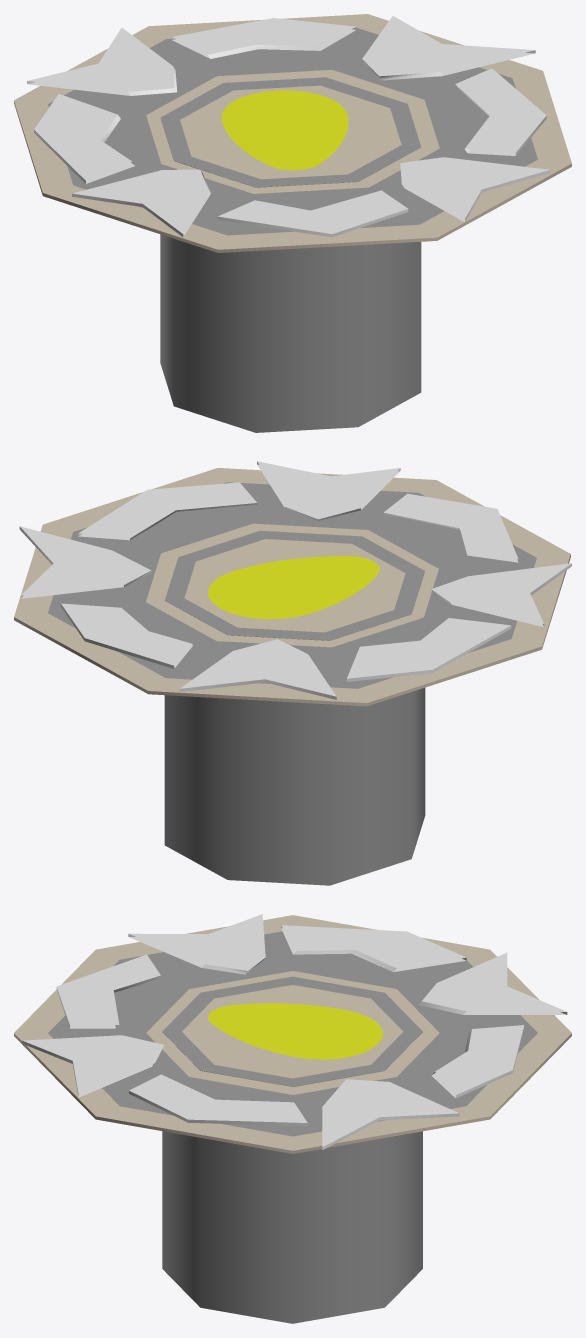
Rendered from Socle_Idole.FBX.
The picture shows the model from 3 angles, top to bottom: view 1: azimuth 30°, elevation 25°; view 2: azimuth 150°, elevation 25°; view 3: azimuth 270°, elevation 25°; orthographic projection. The views are drawn at different scales.
Parts seen in each view (by area): view 1: Cylinder210, Cylinder212, Cylinder211, Egg021; view 2: Cylinder210, Cylinder212, Cylinder211, Egg021; view 3: Cylinder210, Cylinder212, Cylinder211, Egg021.
Boxes of the visible parts, bbox=[...] form: Cylinder210: bbox=[160, 77, 421, 432]; Cylinder212: bbox=[14, 14, 571, 252]; Cylinder211: bbox=[27, 16, 550, 237]; Egg021: bbox=[221, 90, 348, 170]; Cylinder210: bbox=[164, 530, 425, 885]; Cylinder212: bbox=[14, 468, 570, 706]; Cylinder211: bbox=[19, 461, 571, 699]; Egg021: bbox=[208, 556, 379, 619]; Cylinder210: bbox=[162, 976, 422, 1323]; Cylinder212: bbox=[14, 915, 571, 1153]; Cylinder211: bbox=[22, 914, 567, 1150]; Egg021: bbox=[208, 1003, 382, 1059].
Bounding box in the file's own units: 128 × 60.84 × 126.
